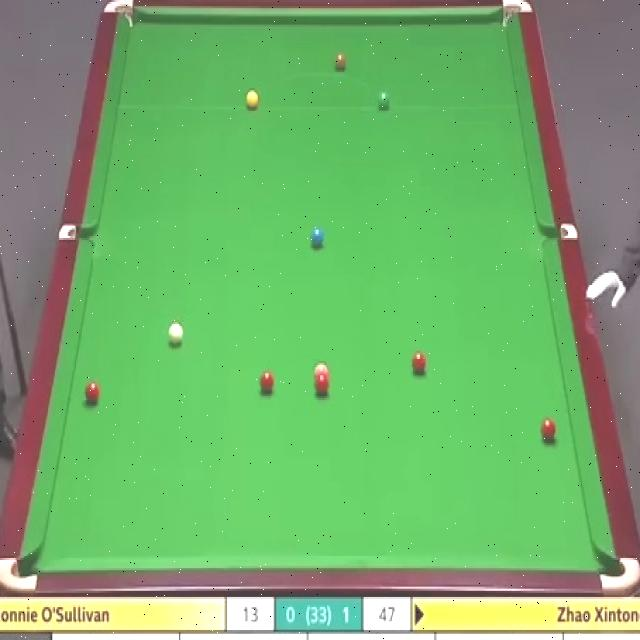blue-ball: (310, 226, 326, 248)
brown-ball: (334, 52, 346, 73)
green-ball: (376, 90, 390, 110)
pink-ball: (313, 363, 330, 378)
red-ball: (84, 379, 101, 406), (540, 420, 558, 442), (411, 352, 426, 376), (313, 375, 330, 396), (259, 371, 274, 394)
white-ball: (168, 320, 185, 346)
yellow-ball: (246, 88, 260, 110)
